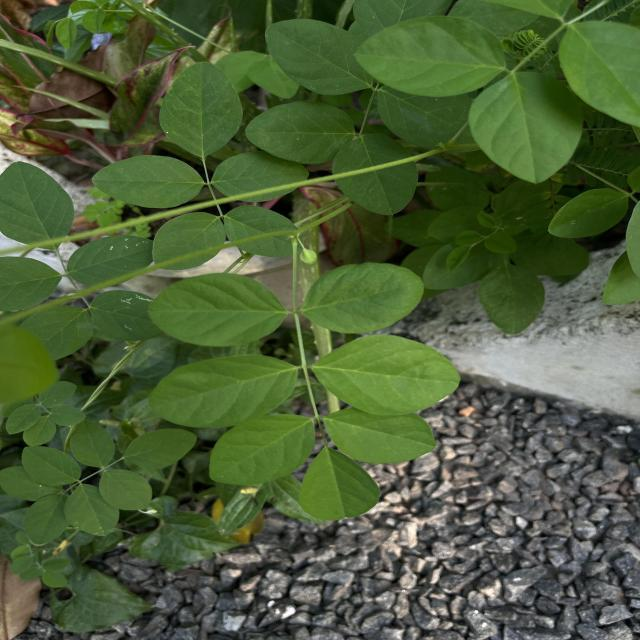Clitoria ternatea: (309, 332, 463, 420), (147, 353, 302, 430), (147, 272, 291, 349), (300, 261, 426, 335), (208, 412, 318, 487), (324, 408, 439, 466), (296, 447, 384, 522)
